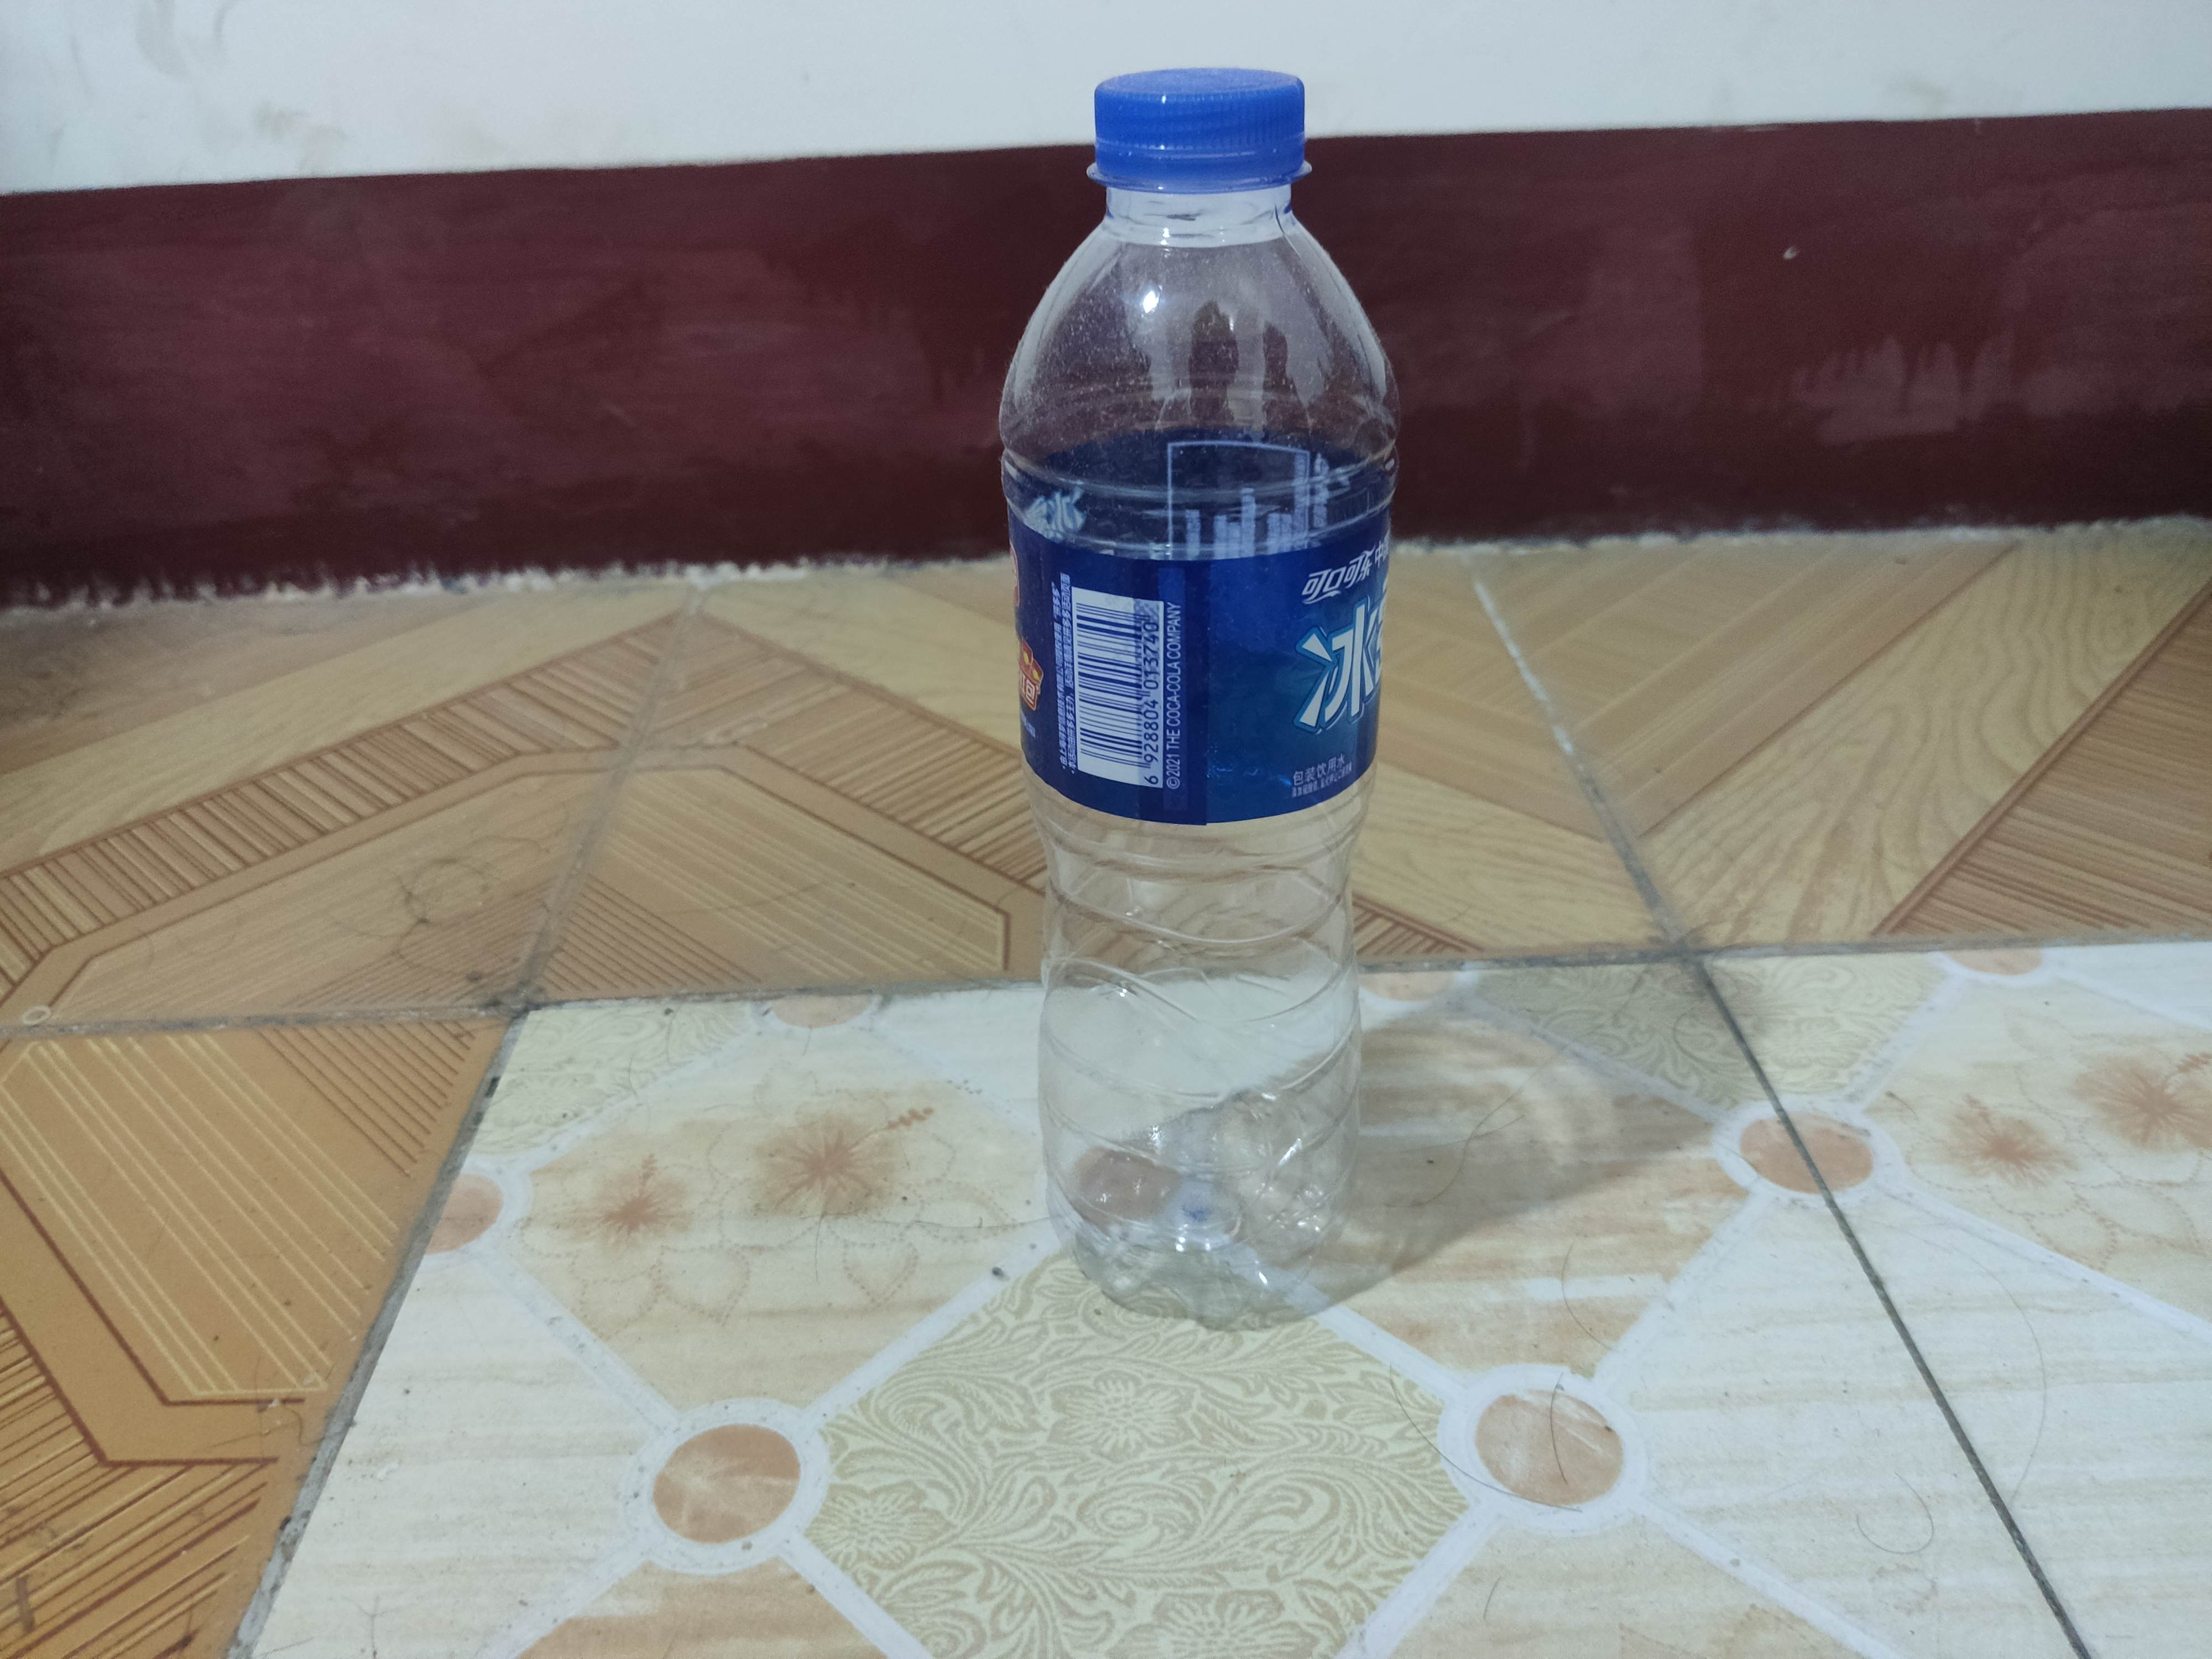Plastic Bottle: (993, 61, 1407, 1314)
